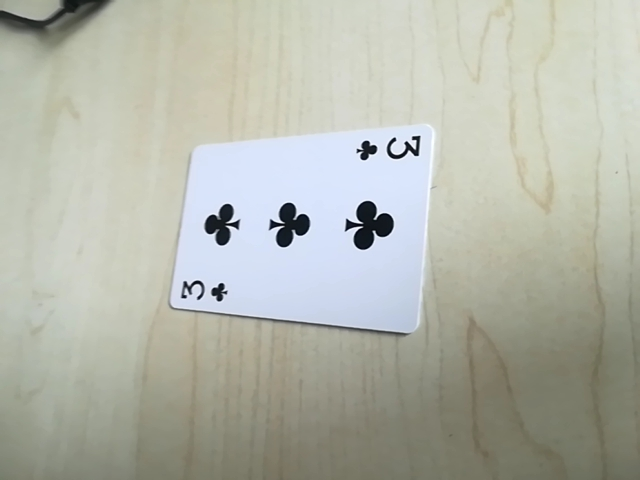mh 3: (353, 129, 423, 167), (172, 274, 231, 308)
